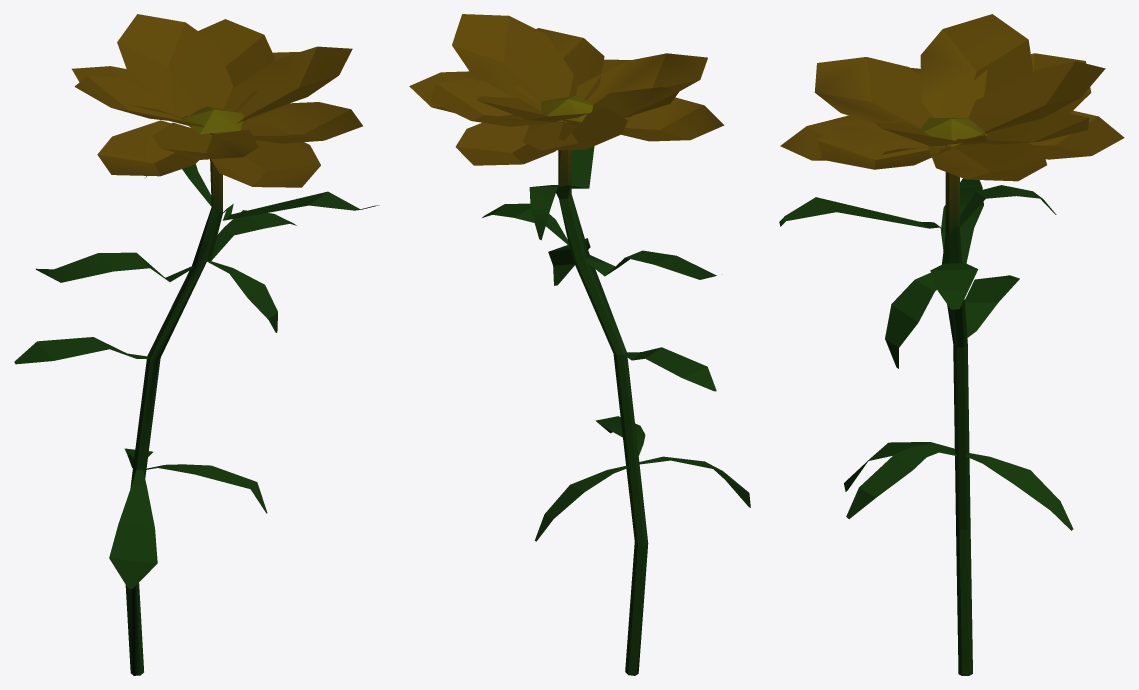
The model's file is flower2.glb.
3 renders of one model, left to right at view 1: azimuth 30°, elevation 25°; view 2: azimuth 150°, elevation 25°; view 3: azimuth 270°, elevation 25°, orthographic. The views are drawn at different scales.
Parts seen in each view (by area): view 1: flower; view 2: flower; view 3: flower.
Boxes of the visible parts, box(x1,y1,x2,y2) form: flower: box(14, 14, 379, 675); flower: box(409, 14, 750, 675); flower: box(779, 14, 1124, 675).
Bounding box in the file's own units: 0.6333 × 1.2 × 0.5852.
